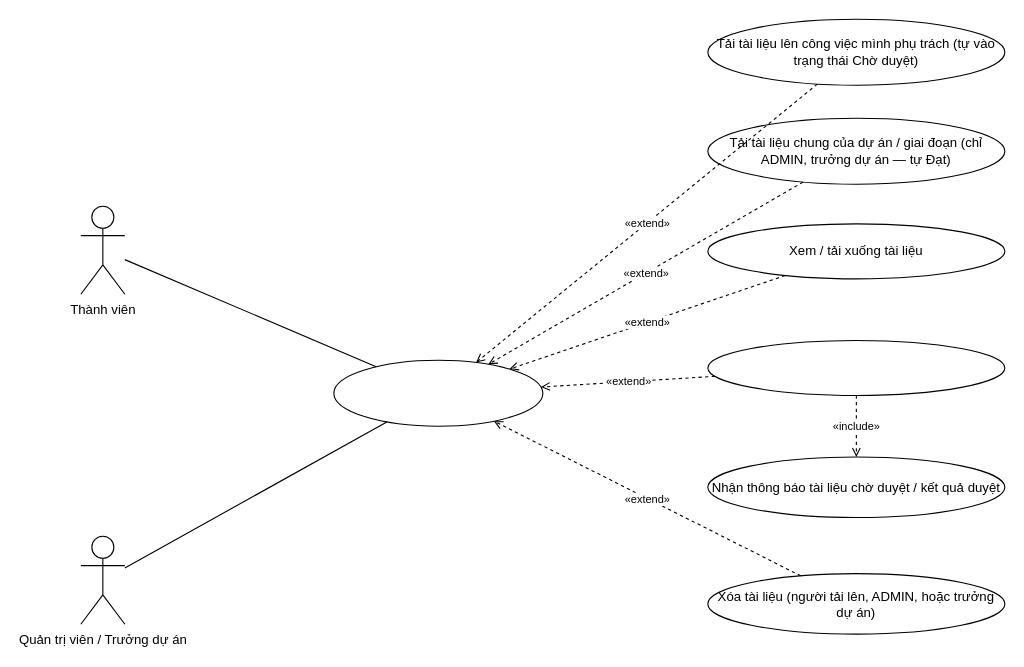
Some shapes in this 1024 by 667 pixel diagram are drawn without their labels. Here are the shapes that lost their labels. From the top down, the centre of each, then its label:
(856,367): Duyệt tài liệu (Đạt / Chưa đạt) kèm ghi chú
(438,392): Quản lý tài liệu
